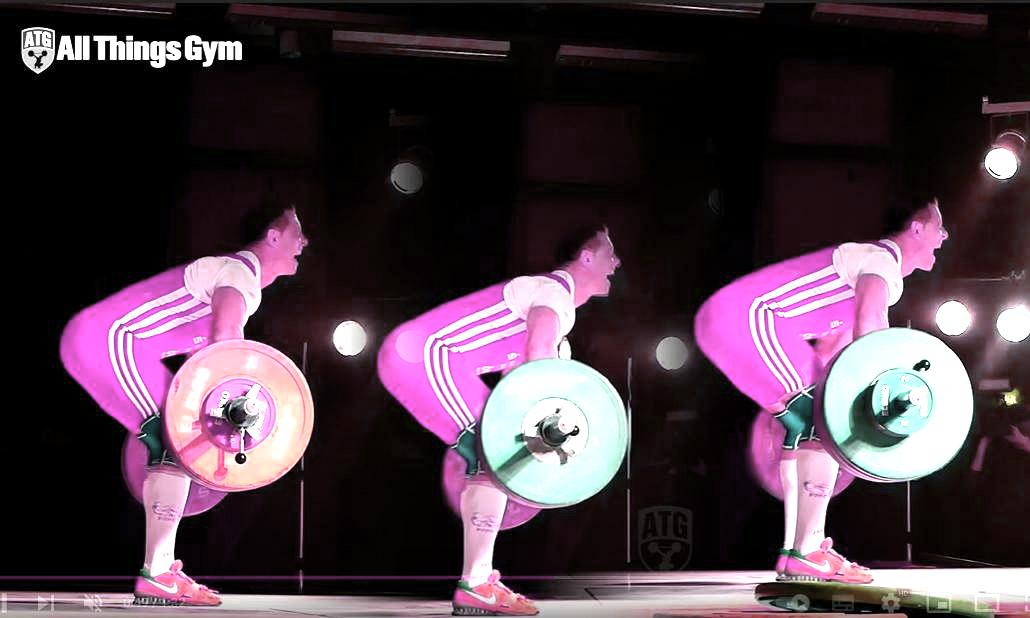Barbell: (552, 412, 579, 440), (240, 392, 266, 419), (906, 385, 931, 410)
